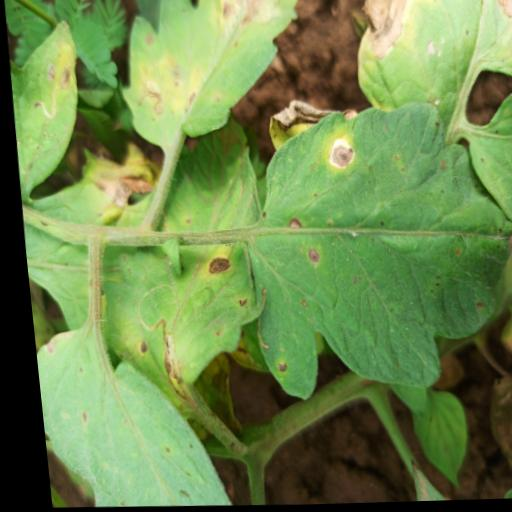Early Blight: (235, 104, 512, 407), (111, 0, 318, 153)
